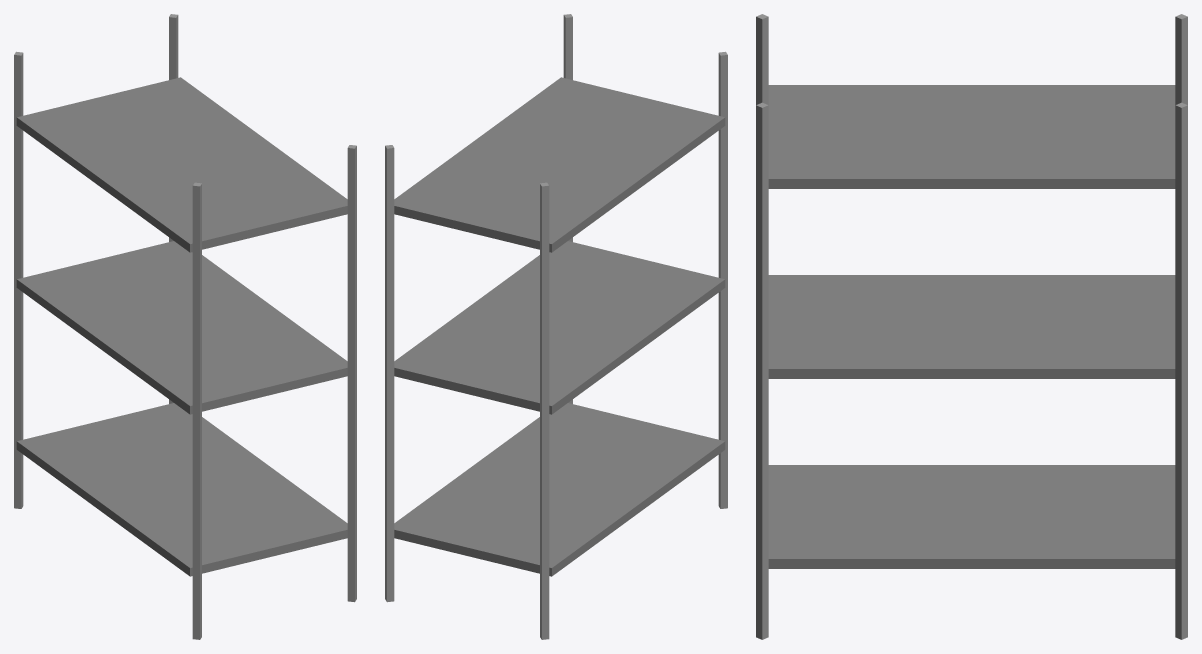
The model's file is Rack_Cabinet.fbx.
The picture shows the model from 3 angles, left to right: view 1: azimuth 30°, elevation 25°; view 2: azimuth 150°, elevation 25°; view 3: azimuth 270°, elevation 25°; orthographic projection. The views are drawn at different scales.
Parts seen in each view (by area): view 1: RackCabinet; view 2: RackCabinet; view 3: RackCabinet.
Boxes of the visible parts, x1=… form: RackCabinet: x1=14, y1=14, x2=356, y2=639; RackCabinet: x1=385, y1=14, x2=727, y2=639; RackCabinet: x1=756, y1=14, x2=1187, y2=639.
Size of the model in its own units: 63.6 by 168 by 124.
